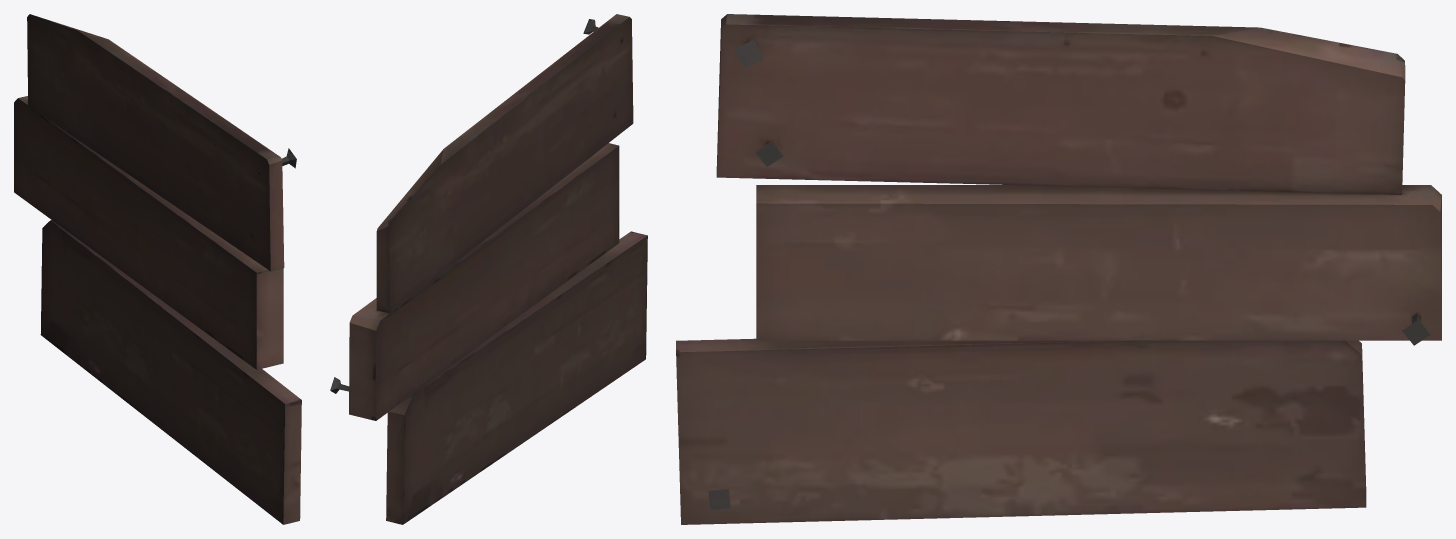
3 views of the same model, side by side, from view 1: azimuth 30°, elevation 25°; view 2: azimuth 150°, elevation 25°; view 3: azimuth 270°, elevation 25° (orthographic). The views are drawn at different scales.
Visible parts, largest first — view 1: body0_model0_lod0_mesh0; view 2: body0_model0_lod0_mesh0; view 3: body0_model0_lod0_mesh0.
Boxes of the visible parts, left/top/right/bottom form: body0_model0_lod0_mesh0: left=14, top=14, right=301, bottom=524; body0_model0_lod0_mesh0: left=330, top=14, right=647, bottom=524; body0_model0_lod0_mesh0: left=676, top=14, right=1441, bottom=524.
Bounding box in the file's own units: 9.79 × 65.42 × 90.92.
Materials: 1 (1 with a texture image).
